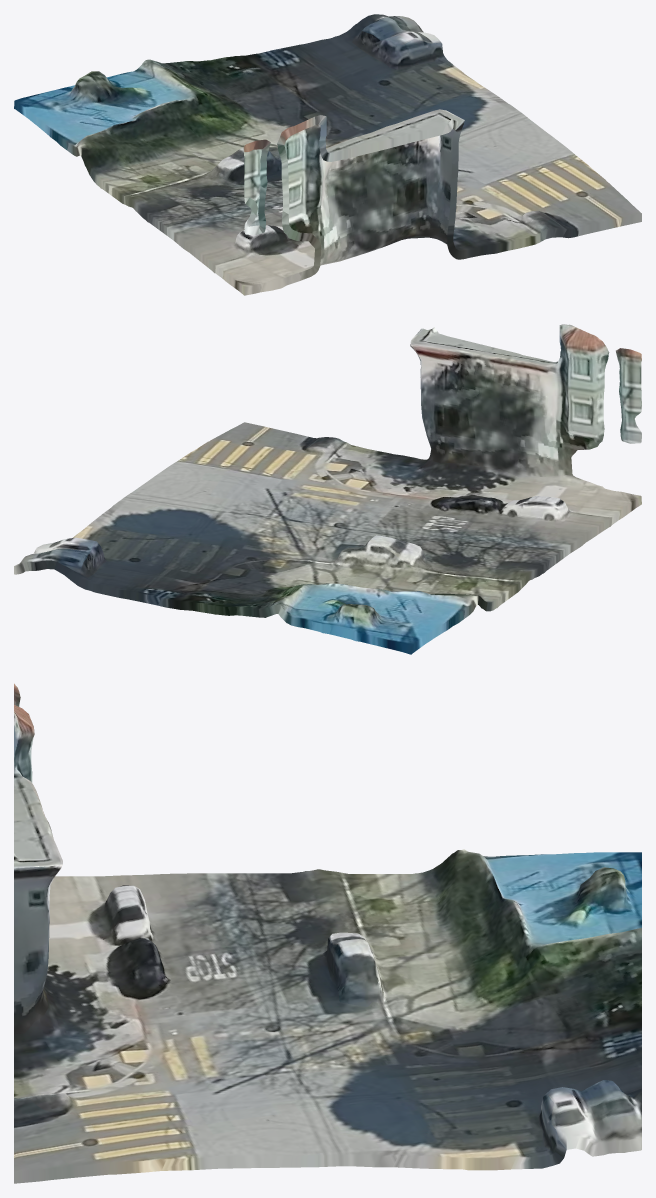
Rendered from z20-167724-405195-h0-yup-uvflip-v3-world.glb.
3 renders of one model, top to bottom at view 1: azimuth 30°, elevation 25°; view 2: azimuth 150°, elevation 25°; view 3: azimuth 270°, elevation 25°, orthographic. The views are drawn at different scales.
Bounding box in the file's own units: 30.2 × 13.44 × 30.32.
1 material, 1 textured.
